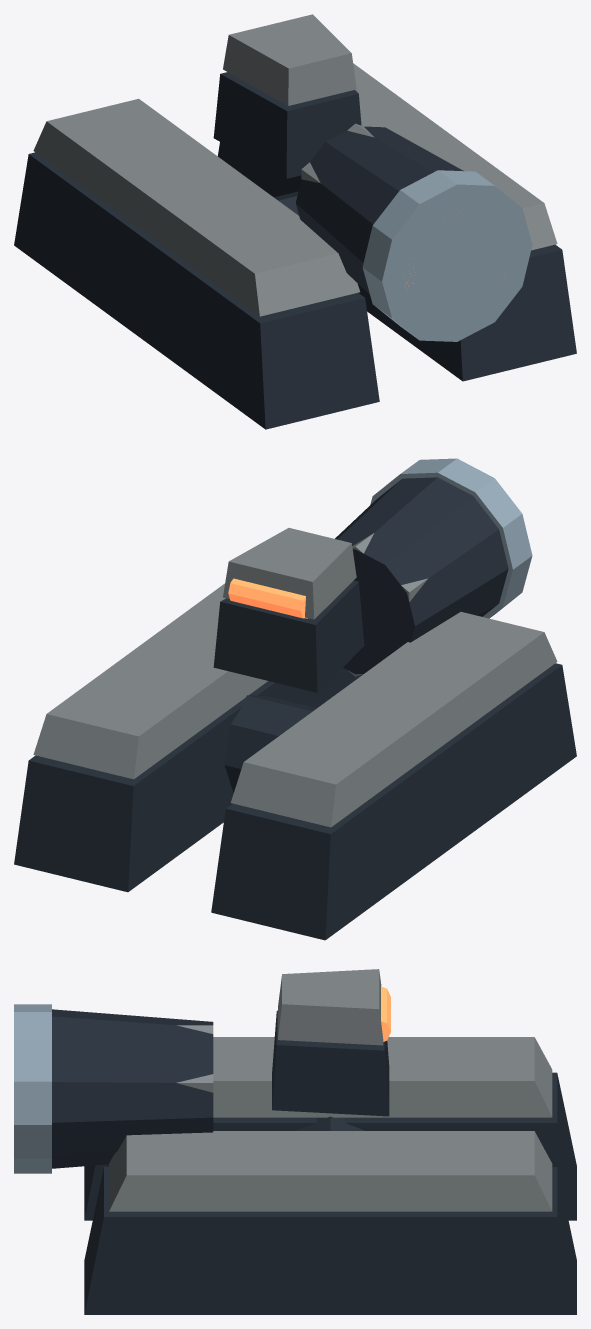
The model's file is c3_hiveDrone.glb.
3 renders of one model, top to bottom at view 1: azimuth 30°, elevation 25°; view 2: azimuth 150°, elevation 25°; view 3: azimuth 270°, elevation 25°, orthographic. The views are drawn at different scales.
Visible parts, largest first — view 1: hiveDrone / Chassis, hiveDrone / Armor, hiveDrone / Titanium; view 2: hiveDrone / Chassis, hiveDrone / Armor, hiveDrone / Titanium, hiveDrone / Energy; view 3: hiveDrone / Chassis, hiveDrone / Armor, hiveDrone / Titanium, hiveDrone / Energy.
Boxes of the visible parts, <box> form: hiveDrone / Chassis: <box>14,72,576,429</box>; hiveDrone / Armor: <box>33,14,557,316</box>; hiveDrone / Titanium: <box>362,170,532,341</box>; hiveDrone / Chassis: <box>14,477,576,940</box>; hiveDrone / Armor: <box>33,528,557,827</box>; hiveDrone / Titanium: <box>370,458,532,618</box>; hiveDrone / Energy: <box>228,578,307,618</box>; hiveDrone / Chassis: <box>52,1009,576,1314</box>; hiveDrone / Armor: <box>109,969,552,1211</box>; hiveDrone / Titanium: <box>14,1004,51,1173</box>; hiveDrone / Energy: <box>381,986,390,1041</box>.
Size of the model in its own units: 0.6 by 0.473 by 0.96.
